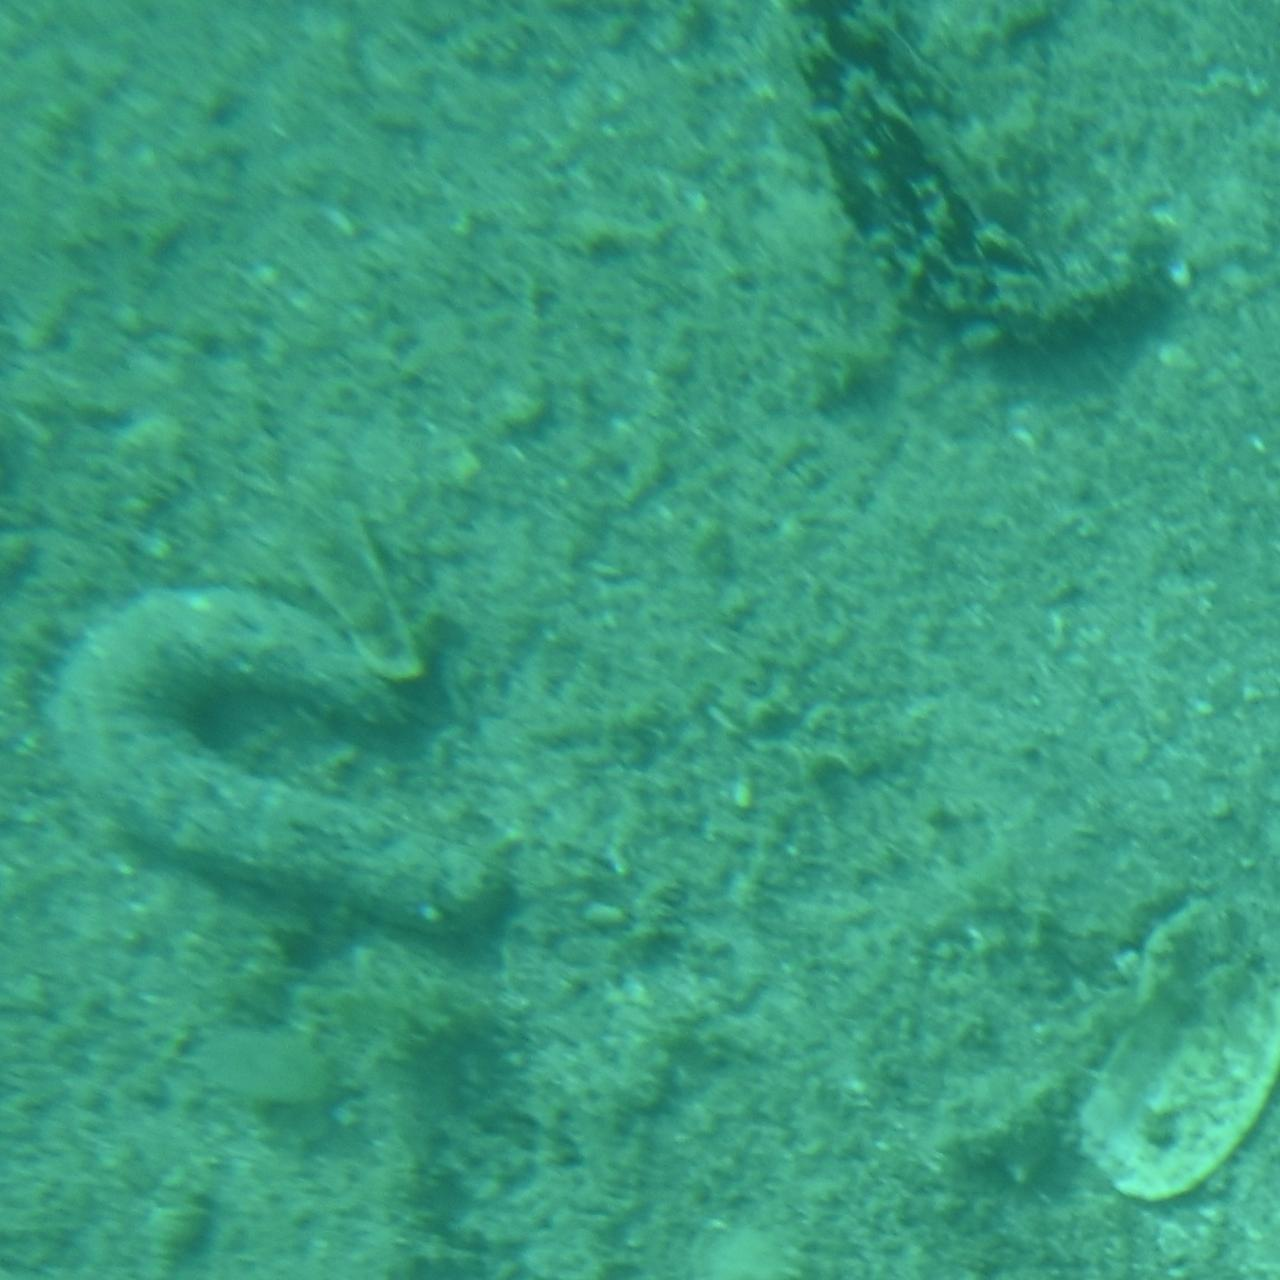Holothuria tubulosa: (52, 574, 524, 960), (782, 0, 1201, 382)
